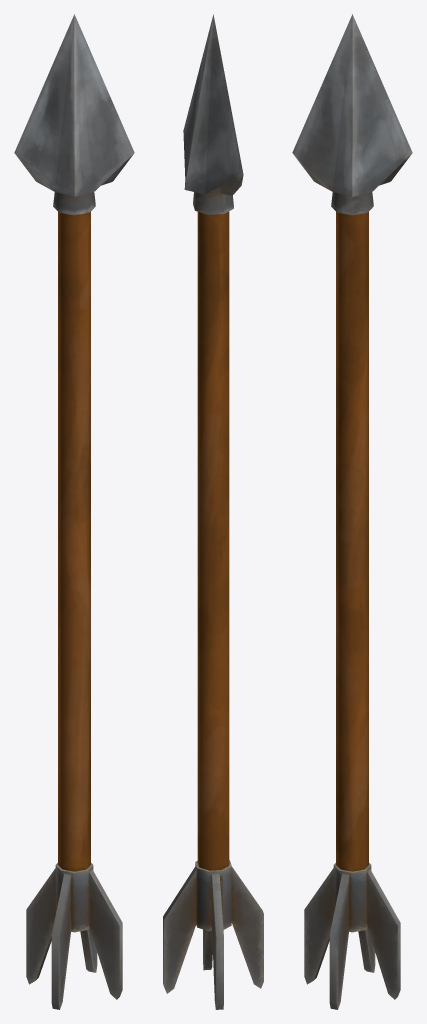
Rendered from arrow.fbx.
3 renders of one model, left to right at view 1: azimuth 90°, elevation 25°; view 2: azimuth 210°, elevation 25°; view 3: azimuth 270°, elevation 25°, orthographic.
Parts seen in each view (by area): view 1: Cylinder; view 2: Cylinder; view 3: Cylinder.
Part boxes in pixels (left/top/right/bottom): Cylinder: left=14, top=14, right=134, bottom=1009; Cylinder: left=163, top=14, right=263, bottom=1009; Cylinder: left=292, top=14, right=412, bottom=1009.
Size of the model in its own units: 4.47 by 50.06 by 5.59.
